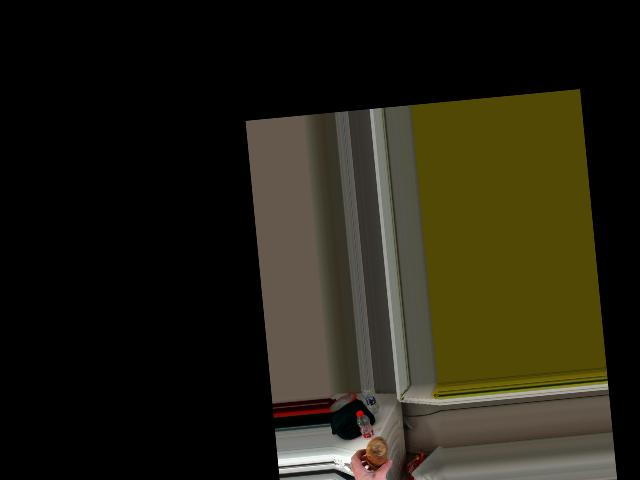sweet_potato: (362, 433, 393, 474)
